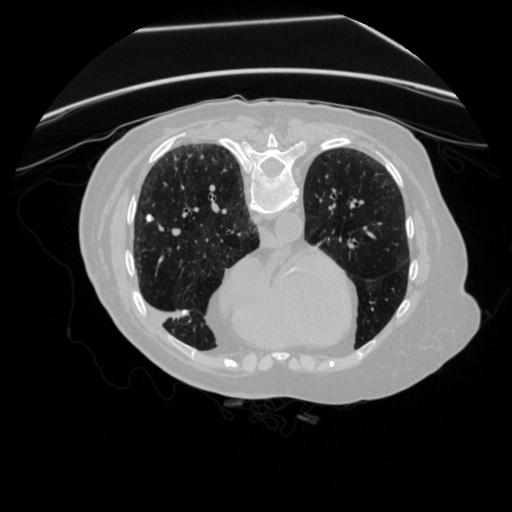nodule: (142, 213, 156, 227)
